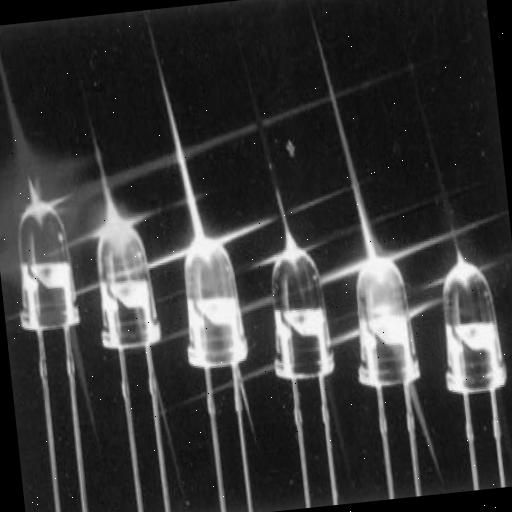LED: (334, 242, 452, 458), (252, 212, 358, 440), (0, 175, 102, 366), (81, 198, 178, 383), (429, 230, 512, 444), (170, 224, 252, 392)
